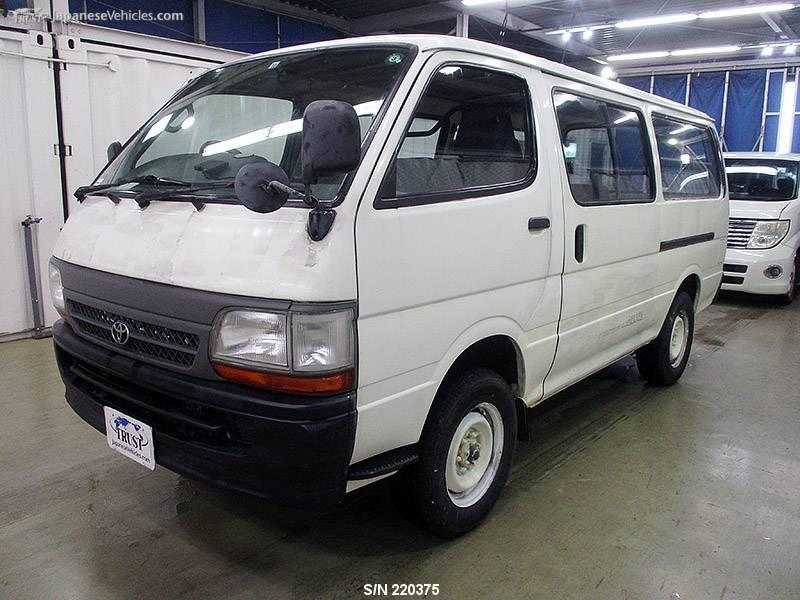Van: (49, 28, 733, 524)
